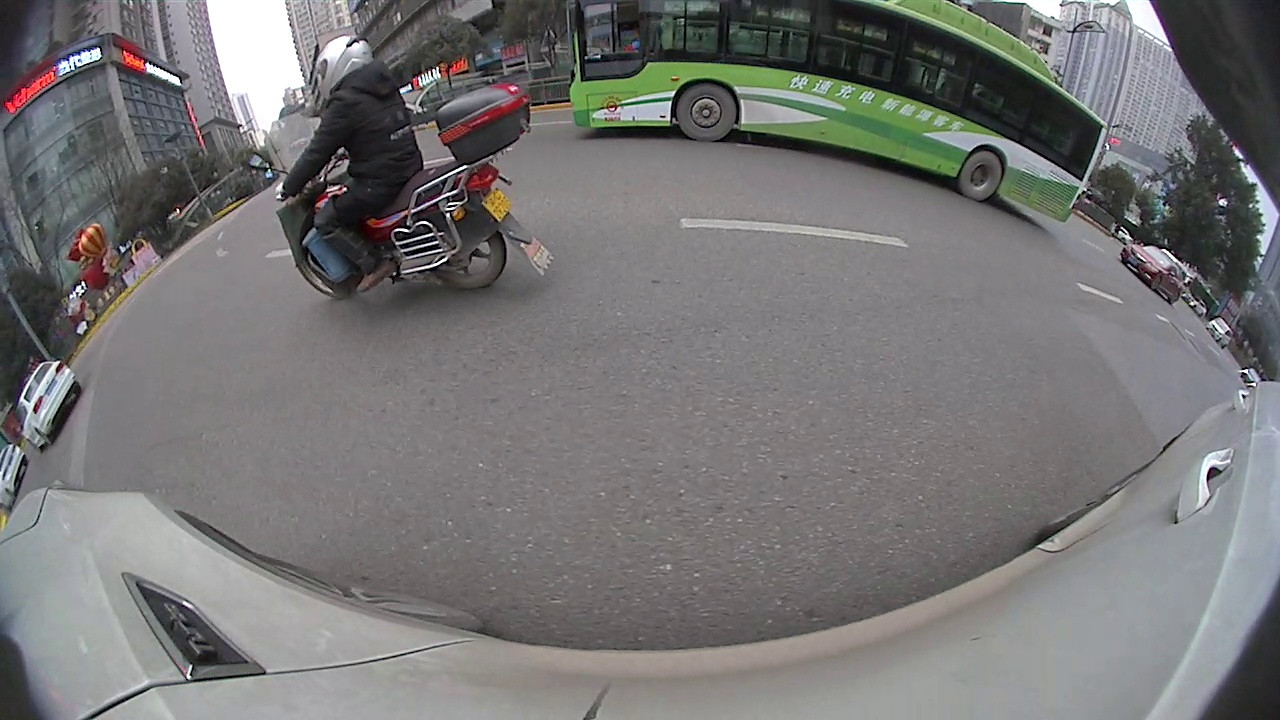bus: (572, 1, 1101, 220)
car: (18, 361, 86, 446), (1121, 244, 1183, 304), (1, 441, 26, 498)
front: (674, 83, 736, 140), (1145, 272, 1166, 292)
rear: (417, 222, 506, 292), (959, 151, 1003, 202)
rider: (275, 35, 533, 315)
